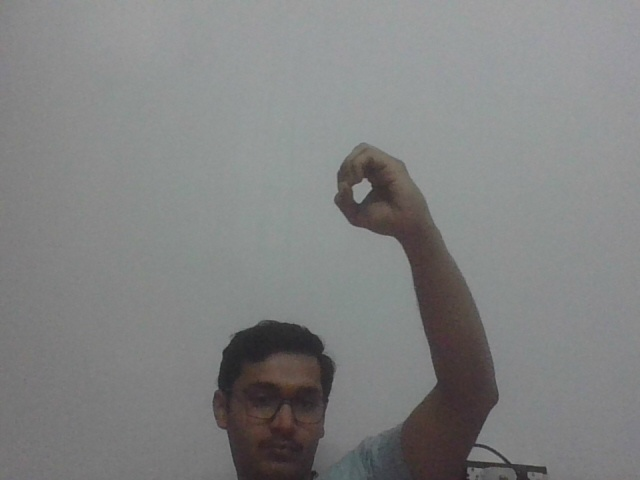O: (329, 136, 432, 242)
